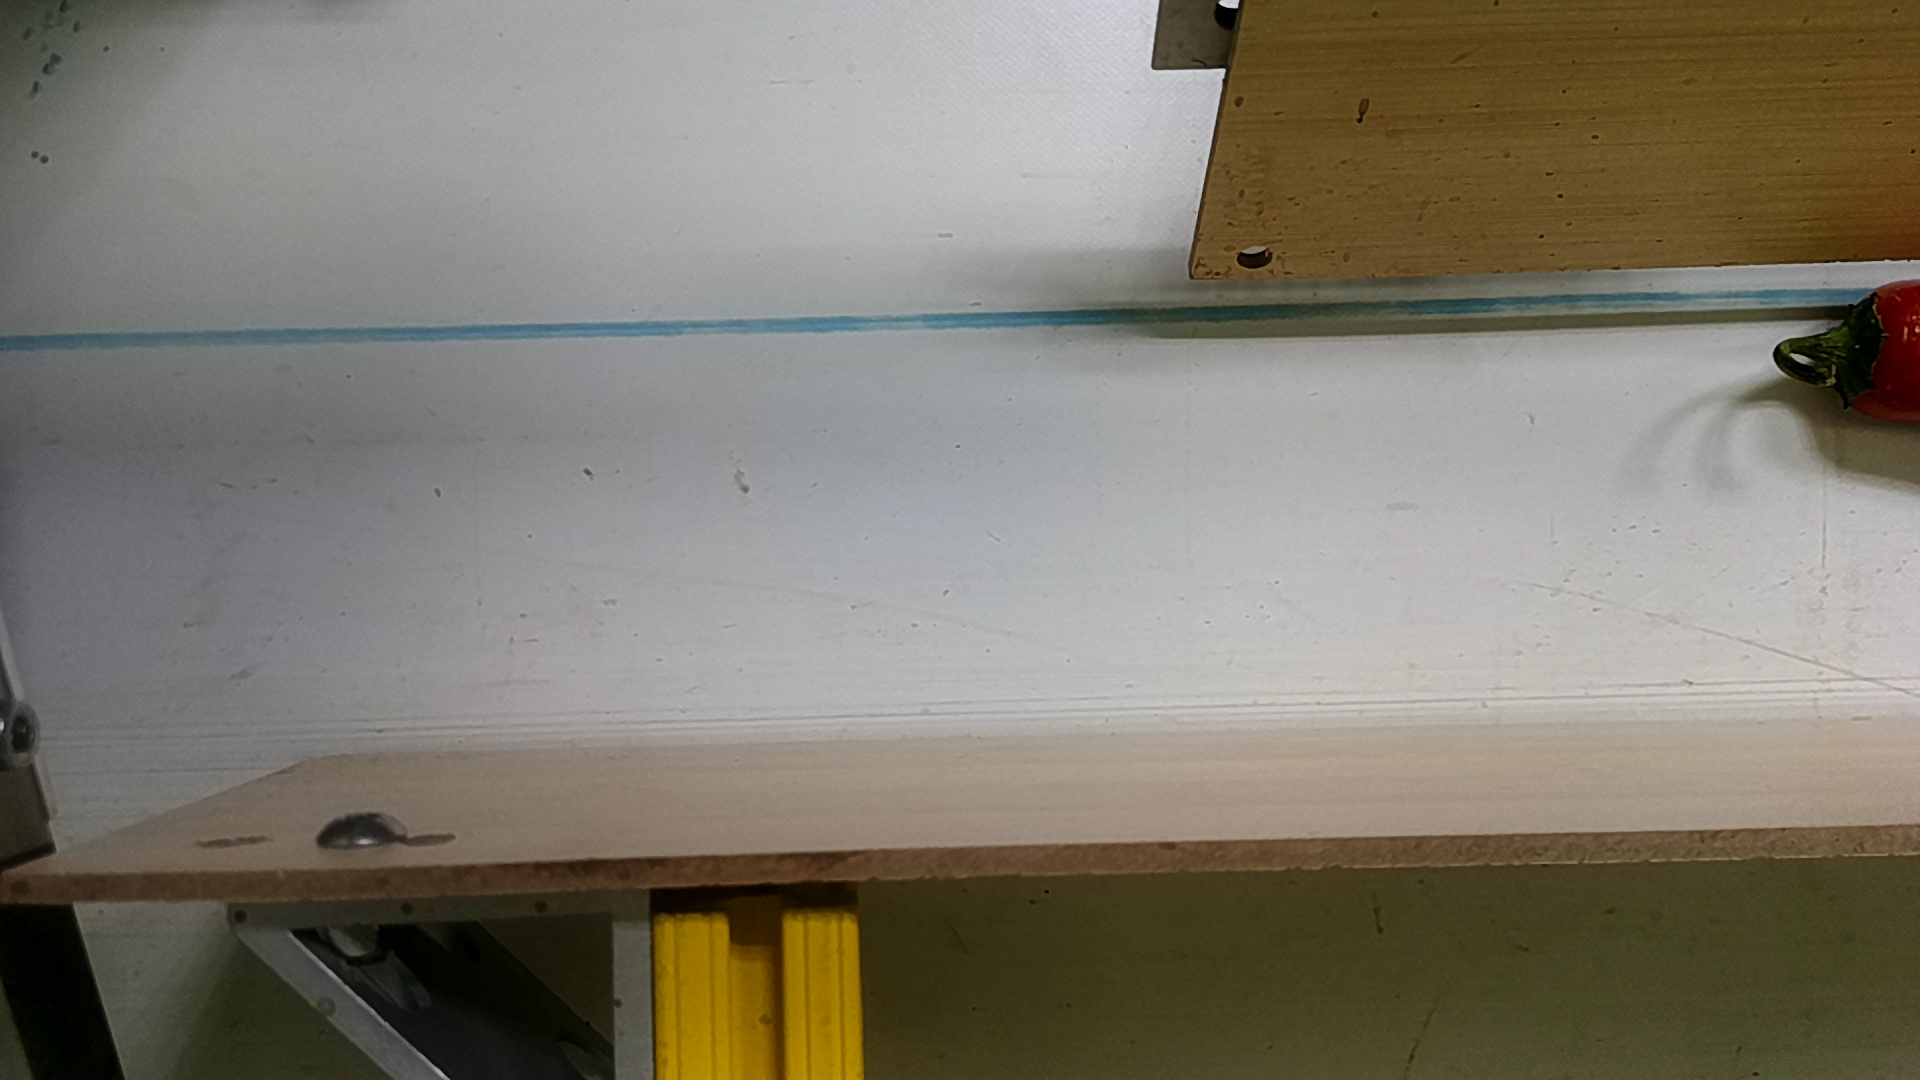Cut Point: (1818, 280, 1917, 439)
